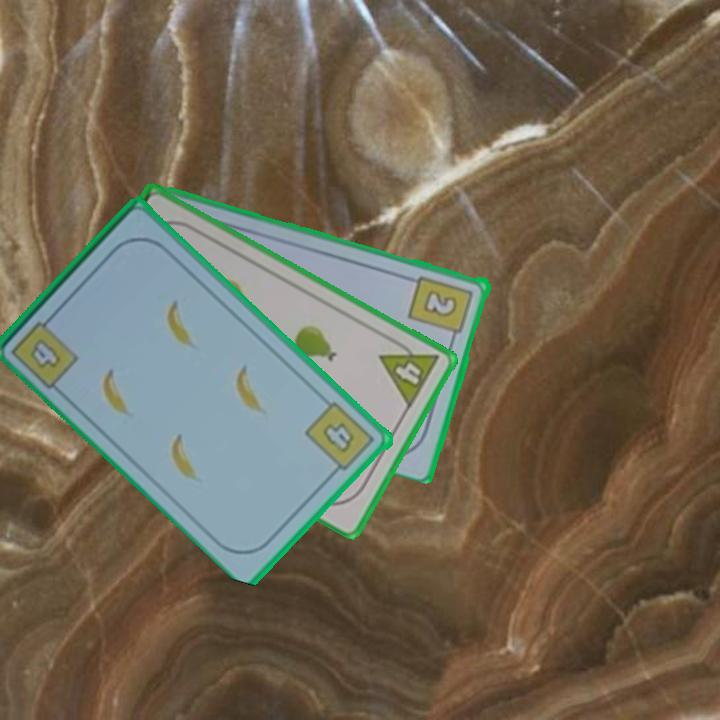2b: (405, 271, 477, 345)
4b: (302, 398, 379, 479), (7, 309, 82, 392)
4p: (376, 333, 443, 411)
